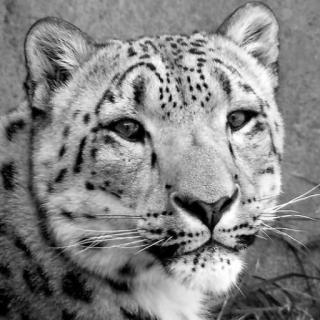Leopard: (90, 26, 300, 318)
